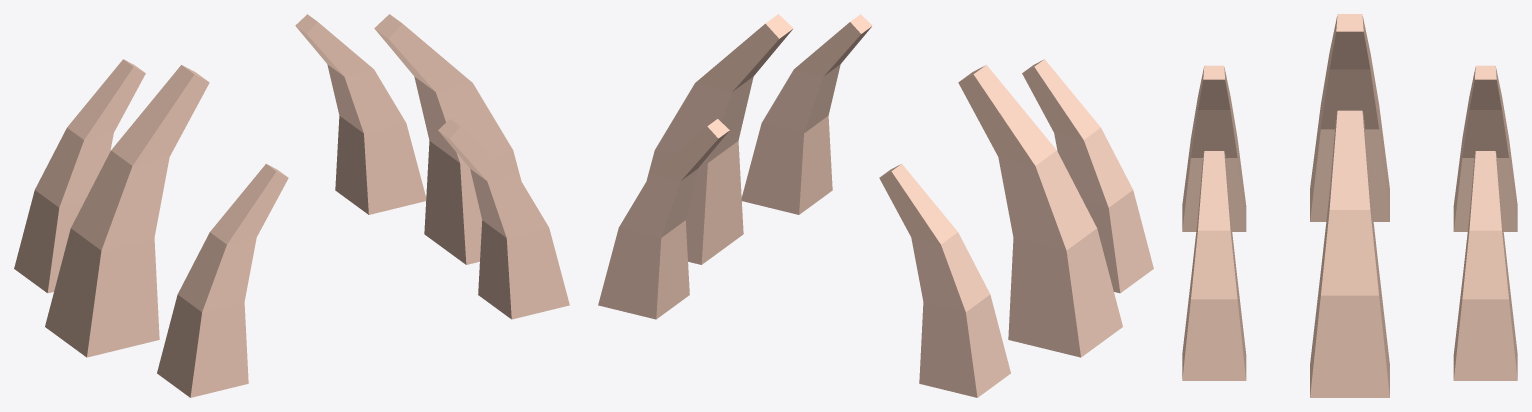
Rendered from bones.glb.
3 renders of one model, left to right at view 1: azimuth 30°, elevation 25°; view 2: azimuth 150°, elevation 25°; view 3: azimuth 270°, elevation 25°, orthographic. The views are drawn at different scales.
Visible parts, largest first — view 1: bones; view 2: bones; view 3: bones.
Part boxes in pixels (x1=…): bones: x1=14, y1=14, x2=569, y2=397; bones: x1=598, y1=14, x2=1153, y2=397; bones: x1=1182, y1=14, x2=1517, y2=397.
Bounding box in the file's own units: 0.8614 × 0.4422 × 0.5821.
